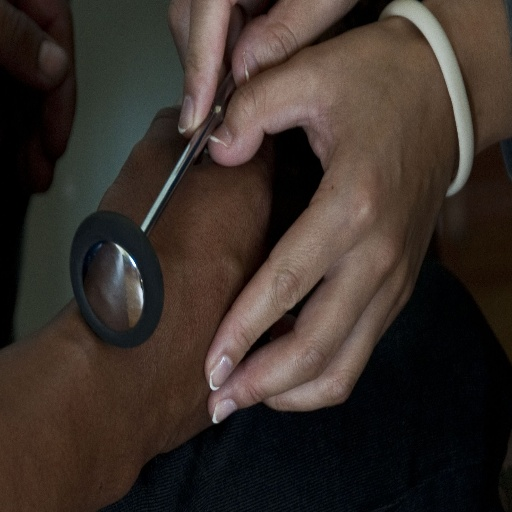hand: (205, 18, 455, 412), (94, 68, 328, 454), (165, 0, 361, 138), (0, 0, 79, 197)
